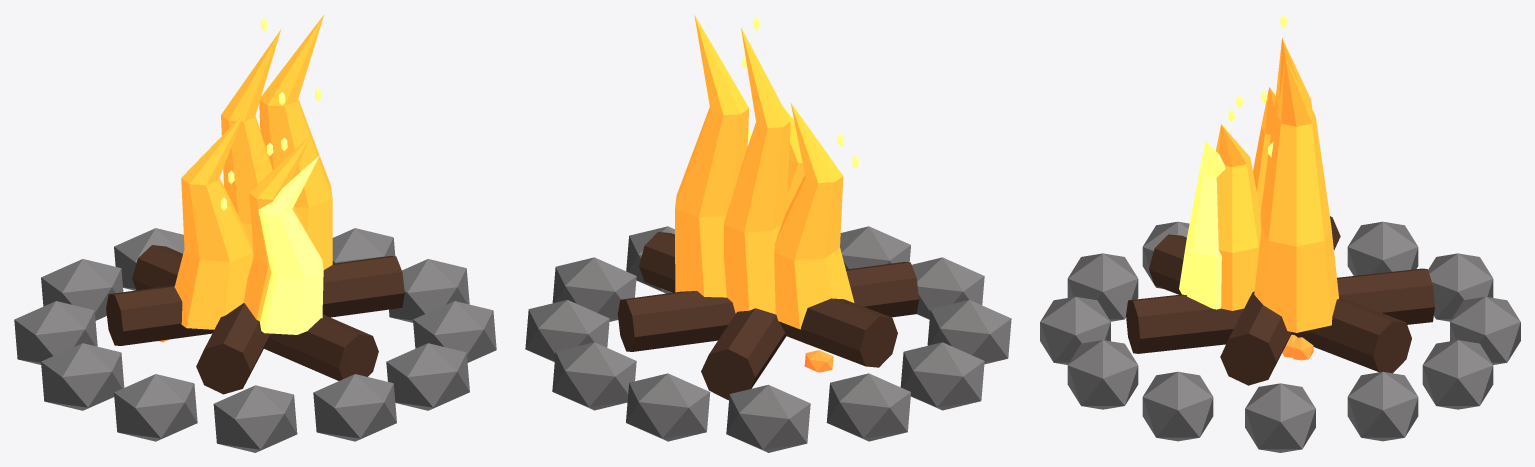
File: campfire-prototype.glb
The picture shows the model from 3 angles, left to right: view 1: azimuth 30°, elevation 25°; view 2: azimuth 150°, elevation 25°; view 3: azimuth 270°, elevation 25°; orthographic projection. The views are drawn at different scales.
Parts seen in each view (by area): view 1: flame_0, charred_log_2, bright_core, flame_1, charred_log_0, flame_3, ring_stone_08, ring_stone_09, ring_stone_07, ring_stone_06, ring_stone_10, charred_log_1 (+7 smaller); view 2: flame_1, flame_3, flame_0, charred_log_1, charred_log_2, charred_log_0, ring_stone_03, ring_stone_04, ring_stone_05, ring_stone_06, ring_stone_02, ring_stone_07 (+7 smaller); view 3: flame_1, charred_log_0, charred_log_1, flame_2, bright_core, charred_log_2, ring_stone_01, ring_stone_11, ring_stone_02, ring_stone_10, ring_stone_00, ring_stone_03 (+7 smaller).
Boxes of the visible parts, x1=… form: flame_0: x1=174, y1=114, x2=252, y2=329; charred_log_2: x1=106, y1=256, x2=404, y2=345; bright_core: x1=258, y1=155, x2=323, y2=334; flame_1: x1=259, y1=14, x2=332, y2=269; charred_log_0: x1=132, y1=245, x2=378, y2=380; flame_3: x1=221, y1=29, x2=281, y2=259; ring_stone_08: x1=213, y1=385, x2=297, y2=452; ring_stone_09: x1=313, y1=374, x2=396, y2=441; ring_stone_07: x1=114, y1=374, x2=197, y2=441; ring_stone_06: x1=41, y1=343, x2=124, y2=410; ring_stone_10: x1=386, y1=343, x2=469, y2=410; charred_log_1: x1=196, y1=303, x2=270, y2=394; flame_1: x1=675, y1=14, x2=748, y2=297; flame_3: x1=724, y1=27, x2=790, y2=314; flame_0: x1=774, y1=103, x2=854, y2=329; charred_log_1: x1=617, y1=261, x2=919, y2=351; charred_log_2: x1=639, y1=232, x2=897, y2=367; charred_log_0: x1=701, y1=308, x2=786, y2=400; ring_stone_03: x1=626, y1=373, x2=710, y2=441; ring_stone_04: x1=726, y1=384, x2=810, y2=452; ring_stone_05: x1=826, y1=373, x2=910, y2=441; ring_stone_06: x1=900, y1=342, x2=984, y2=410; ring_stone_02: x1=552, y1=342, x2=636, y2=410; ring_stone_07: x1=927, y1=300, x2=1011, y2=364; flame_1: x1=1254, y1=57, x2=1338, y2=332; charred_log_0: x1=1126, y1=268, x2=1434, y2=353; charred_log_1: x1=1149, y1=234, x2=1411, y2=373; flame_2: x1=1216, y1=124, x2=1261, y2=310; bright_core: x1=1179, y1=140, x2=1225, y2=309; charred_log_2: x1=1220, y1=216, x2=1340, y2=385; ring_stone_01: x1=1347, y1=371, x2=1418, y2=441; ring_stone_11: x1=1142, y1=371, x2=1213, y2=441; ring_stone_02: x1=1422, y1=340, x2=1493, y2=409; ring_stone_10: x1=1067, y1=340, x2=1138, y2=409; ring_stone_00: x1=1245, y1=383, x2=1315, y2=452; ring_stone_03: x1=1450, y1=296, x2=1520, y2=364.
Bounding box in the file's own units: 1.57 × 1.23 × 1.5.
